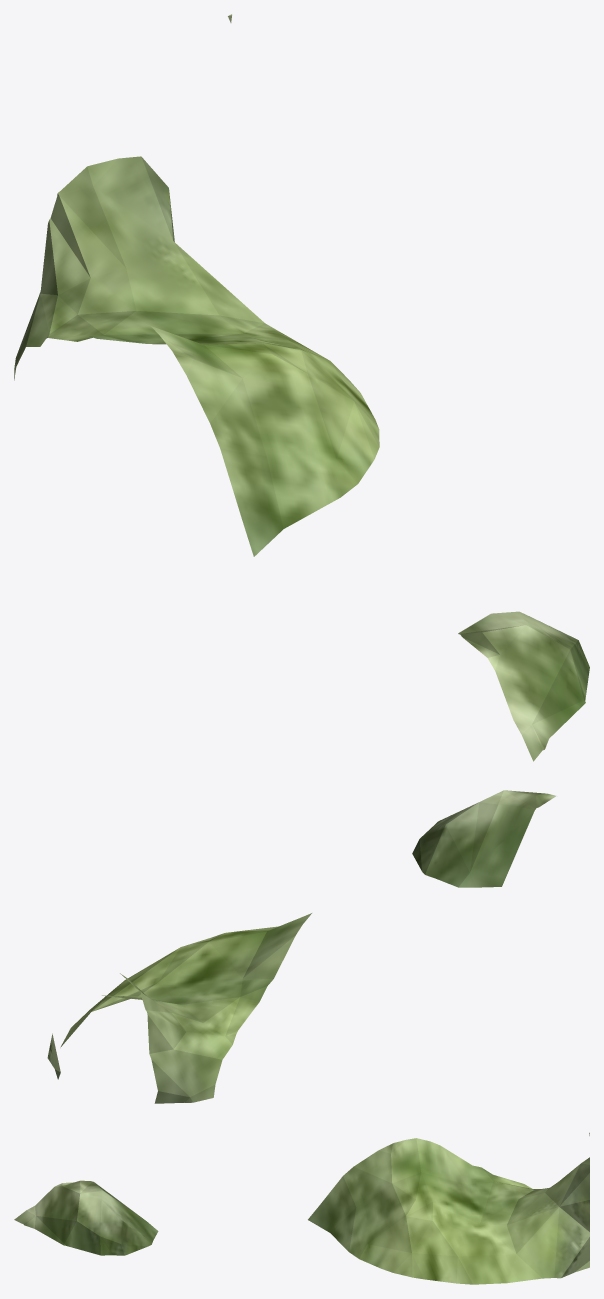
The picture shows the model from 3 angles, top to bottom: view 1: azimuth 30°, elevation 25°; view 2: azimuth 150°, elevation 25°; view 3: azimuth 270°, elevation 25°; orthographic projection. The views are drawn at different scales.
Bounding box in the file's own units: 0.6731 × 0.7277 × 2.53.
Materials: 1 (1 with a texture image).
